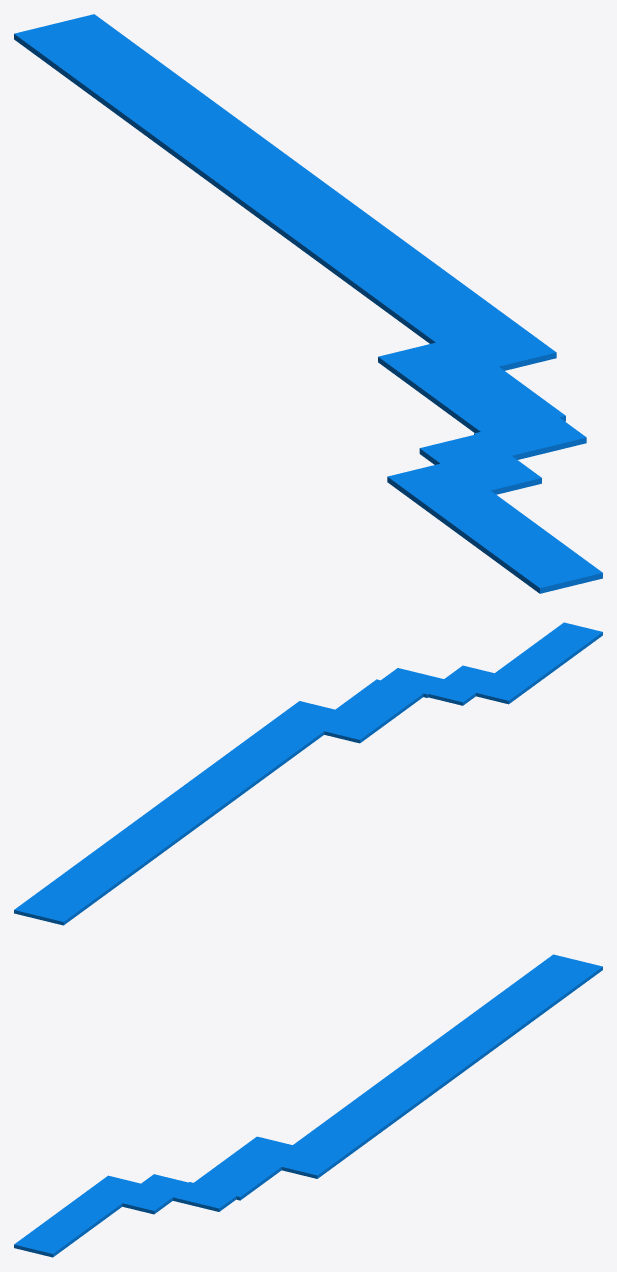
File: water_cut.gltf
The picture shows the model from 3 angles, top to bottom: view 1: azimuth 30°, elevation 25°; view 2: azimuth 150°, elevation 25°; view 3: azimuth 330°, elevation 25°; orthographic projection. The views are drawn at different scales.
Visible parts, largest first — view 1: WaterCut2; view 2: WaterCut2; view 3: WaterCut2.
Boxes of the visible parts, x1=… form: WaterCut2: x1=14, y1=14, x2=602, y2=593; WaterCut2: x1=14, y1=622, x2=602, y2=925; WaterCut2: x1=14, y1=954, x2=602, y2=1257.
Bounding box in the file's own units: 46.61 × 1 × 222.
